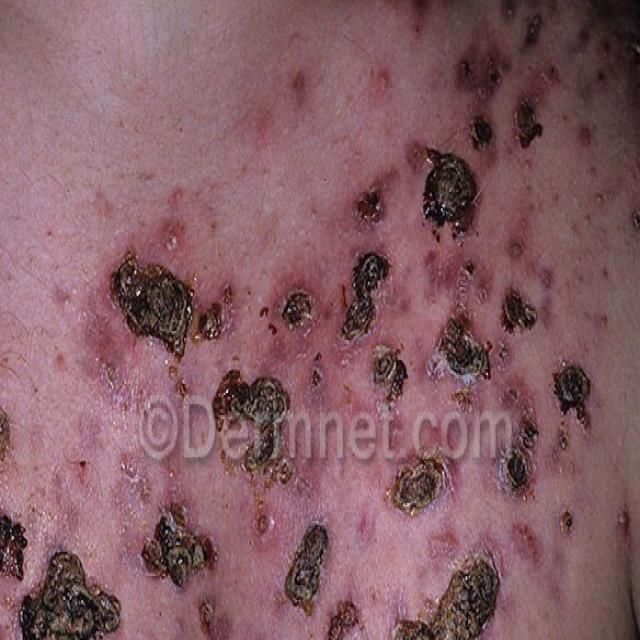Acne: (440, 0, 570, 187), (382, 534, 501, 640), (103, 249, 198, 378), (536, 248, 590, 446), (208, 352, 286, 483), (19, 545, 121, 640), (137, 480, 217, 597), (426, 309, 497, 415), (341, 228, 385, 369), (279, 502, 329, 615), (487, 271, 538, 355), (619, 75, 640, 267), (502, 395, 537, 501), (0, 474, 24, 602), (316, 583, 368, 640), (376, 338, 411, 413), (276, 271, 313, 340), (202, 264, 235, 337)
